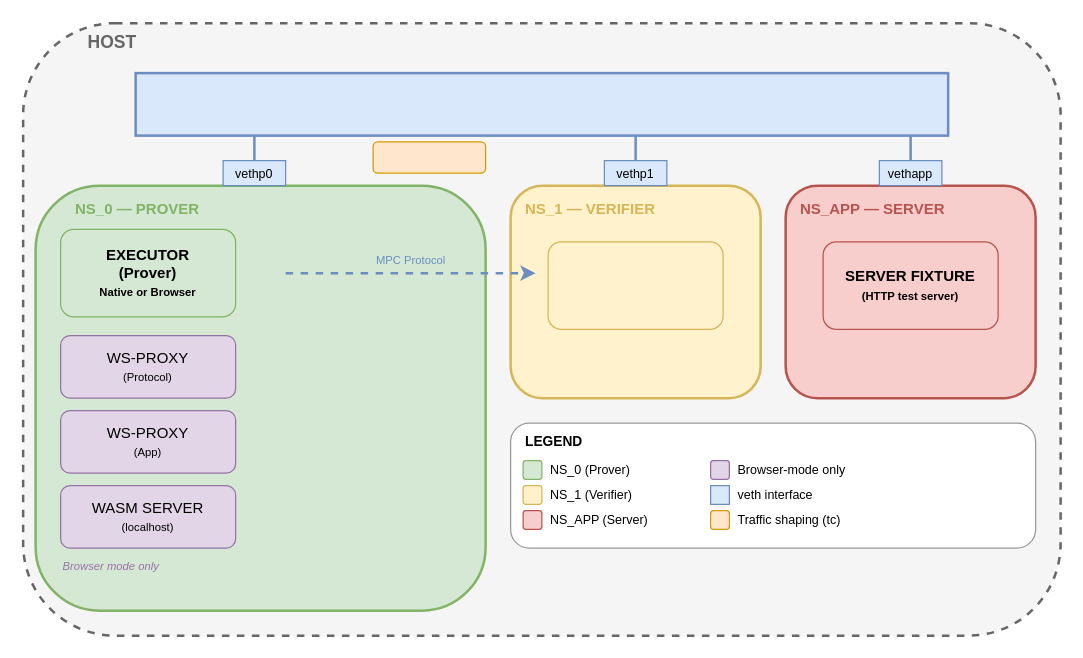
This 1083x658 diagram has some shape labels left out. The shapes that lost their labels are listed below. From the top down, each one's centre as x and y in pixels, then its label:
At pixel 541 103: "BRIDGE: tlsn-br".
At pixel 429 157: "tc: bw + latency".
At pixel 635 285: "EXECUTOR (Verifier)".
